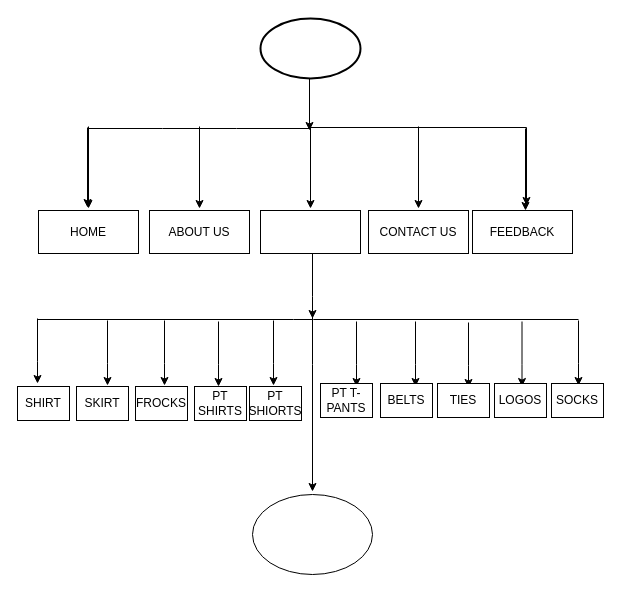
Some shapes in this 621 by 592 pixel diagram are drawn without their labels. Here are the shapes that lost their labels. From the top down, the box of each, then its label:
(259, 17, 361, 79): Start
(260, 210, 360, 254): PRODUCTS
(252, 494, 372, 574): END
